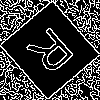R: (25, 25, 83, 84)
